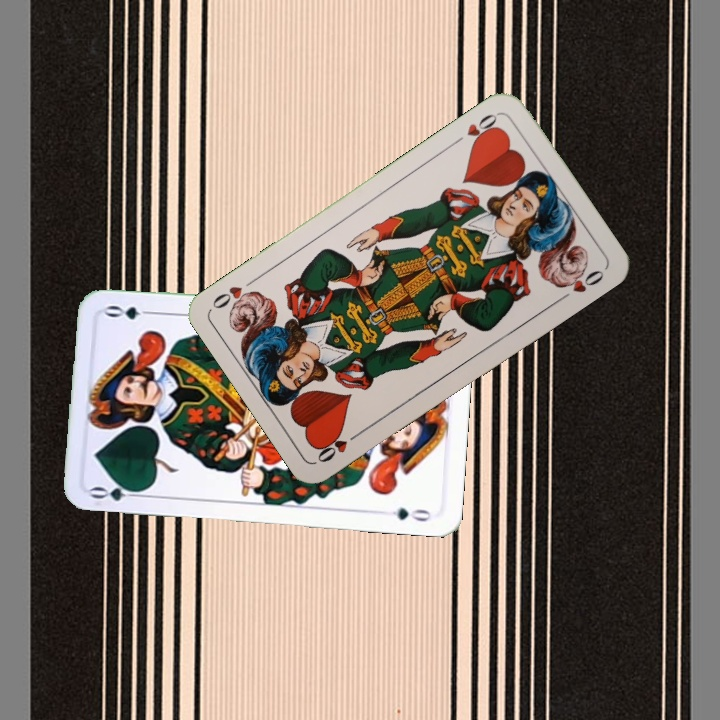GO: (87, 479, 147, 504)
HO: (449, 109, 502, 149), (313, 426, 365, 466)
